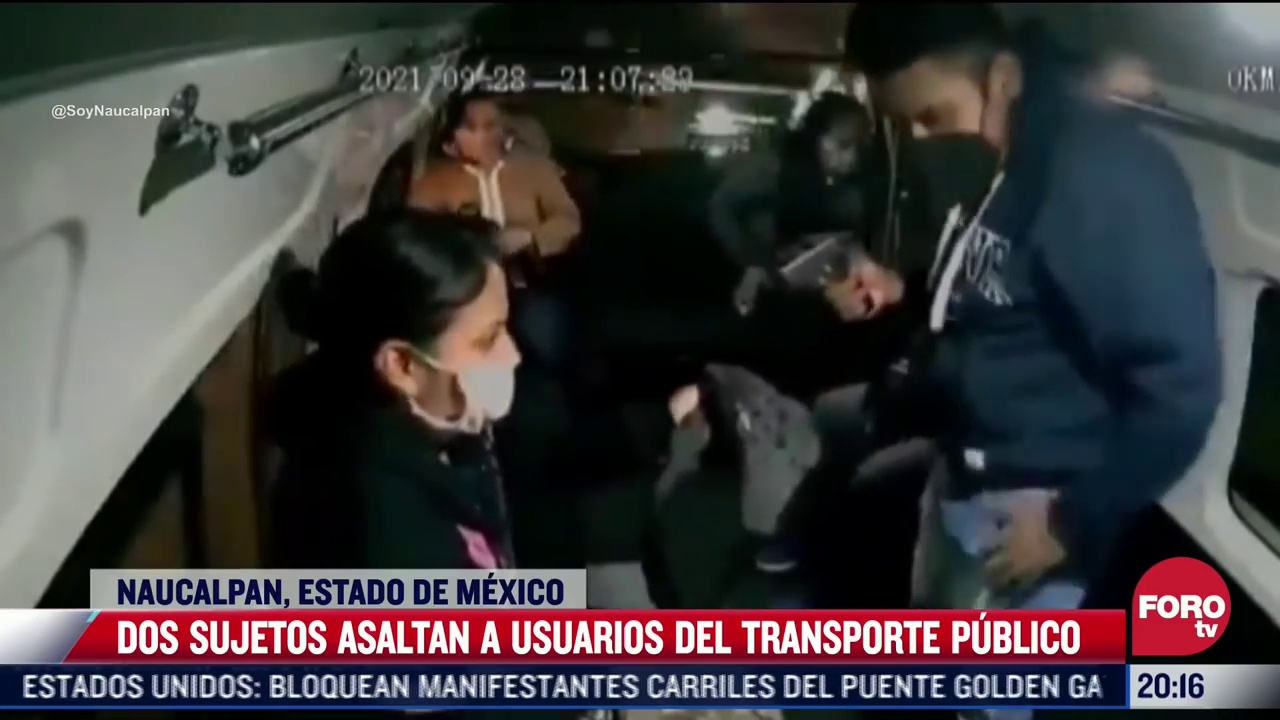pistol: (775, 230, 877, 316)
